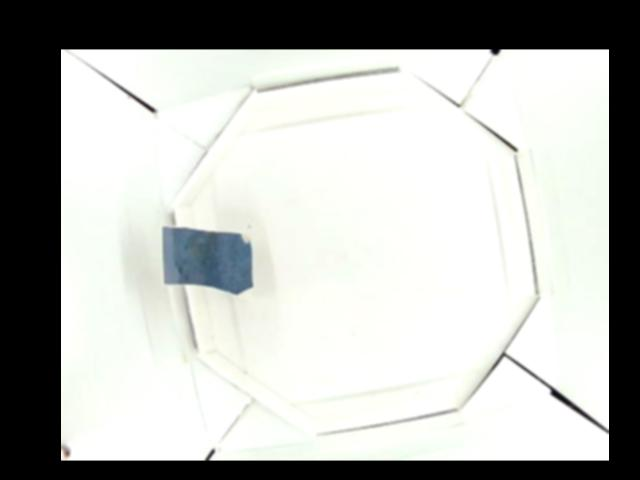China: (160, 225, 252, 296)
